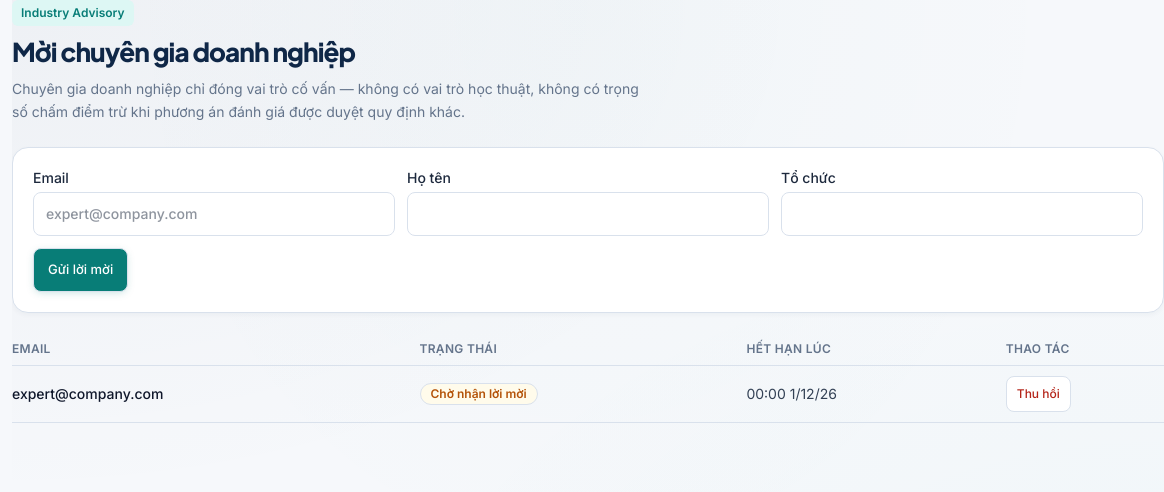
Test: AdminIndustryInvitationsPage › revokes a pending invitation and refetches
Click the button "Thu hồi". click: [1038, 394]
box: [1006, 376, 1071, 412]
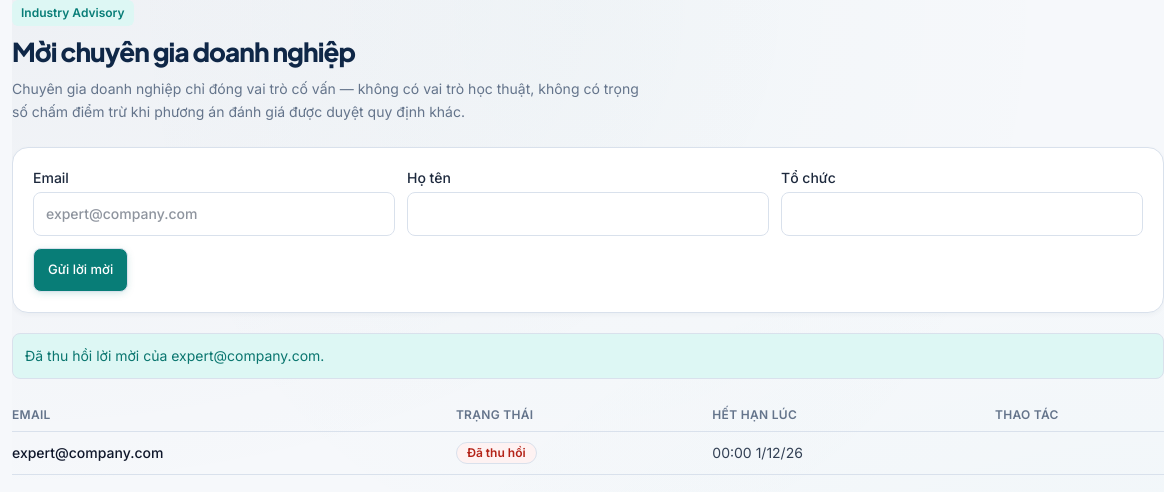
Result: the text "Đã thu hồi lời mời của expert@company.com." is shown at [12, 333, 1163, 379]
